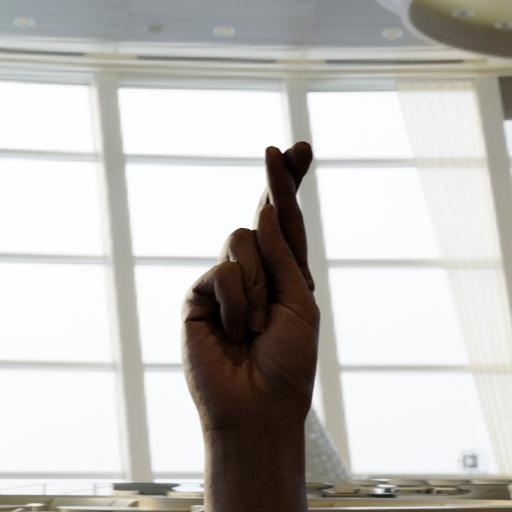R: (168, 130, 340, 454)
